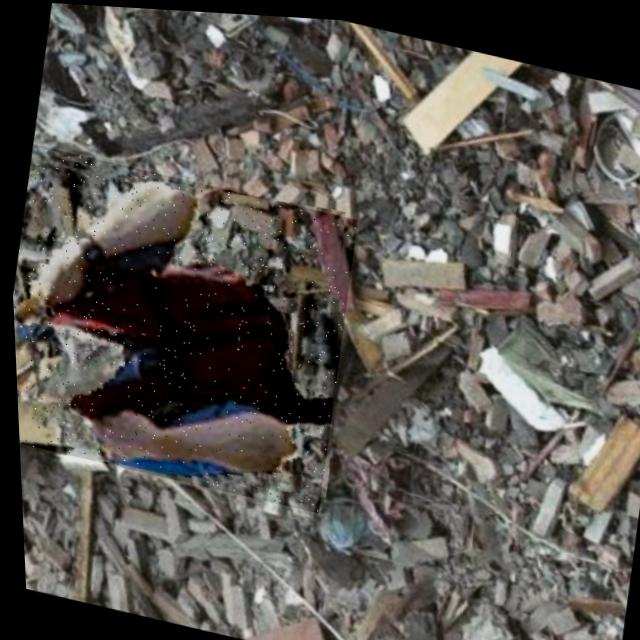Person in Rubble: (5, 141, 365, 510)
